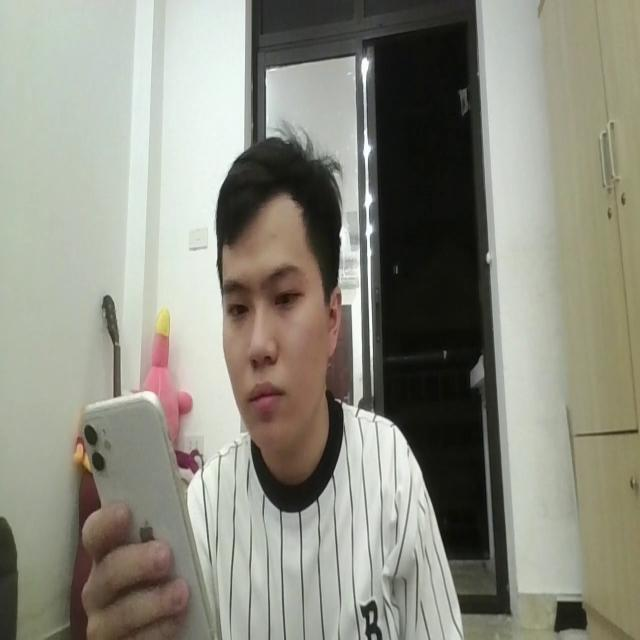phone: (87, 390, 215, 640)
student: (81, 124, 465, 640)
